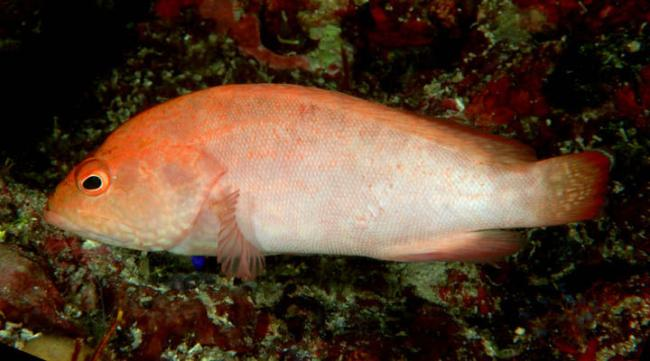fish: (44, 82, 608, 284)
